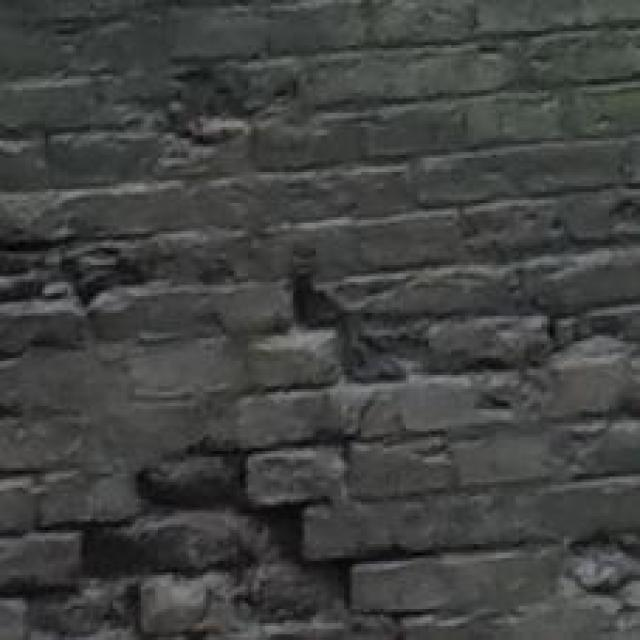Crack: (0, 121, 514, 640)
